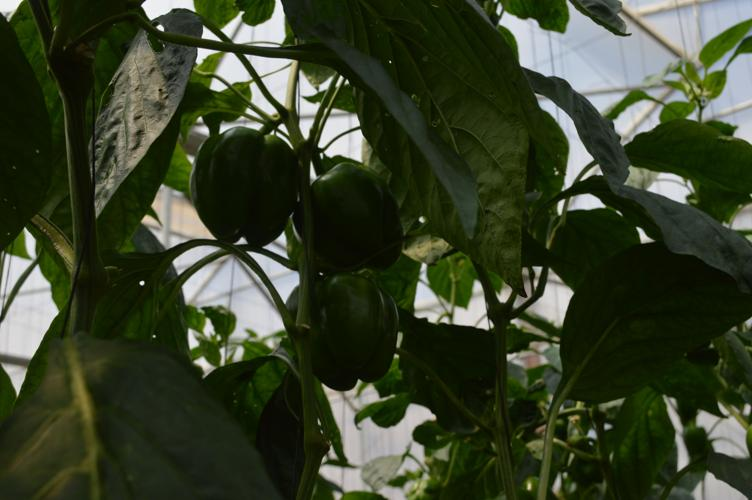BellPepper: (190, 129, 294, 252), (300, 162, 407, 271), (303, 276, 403, 385)
